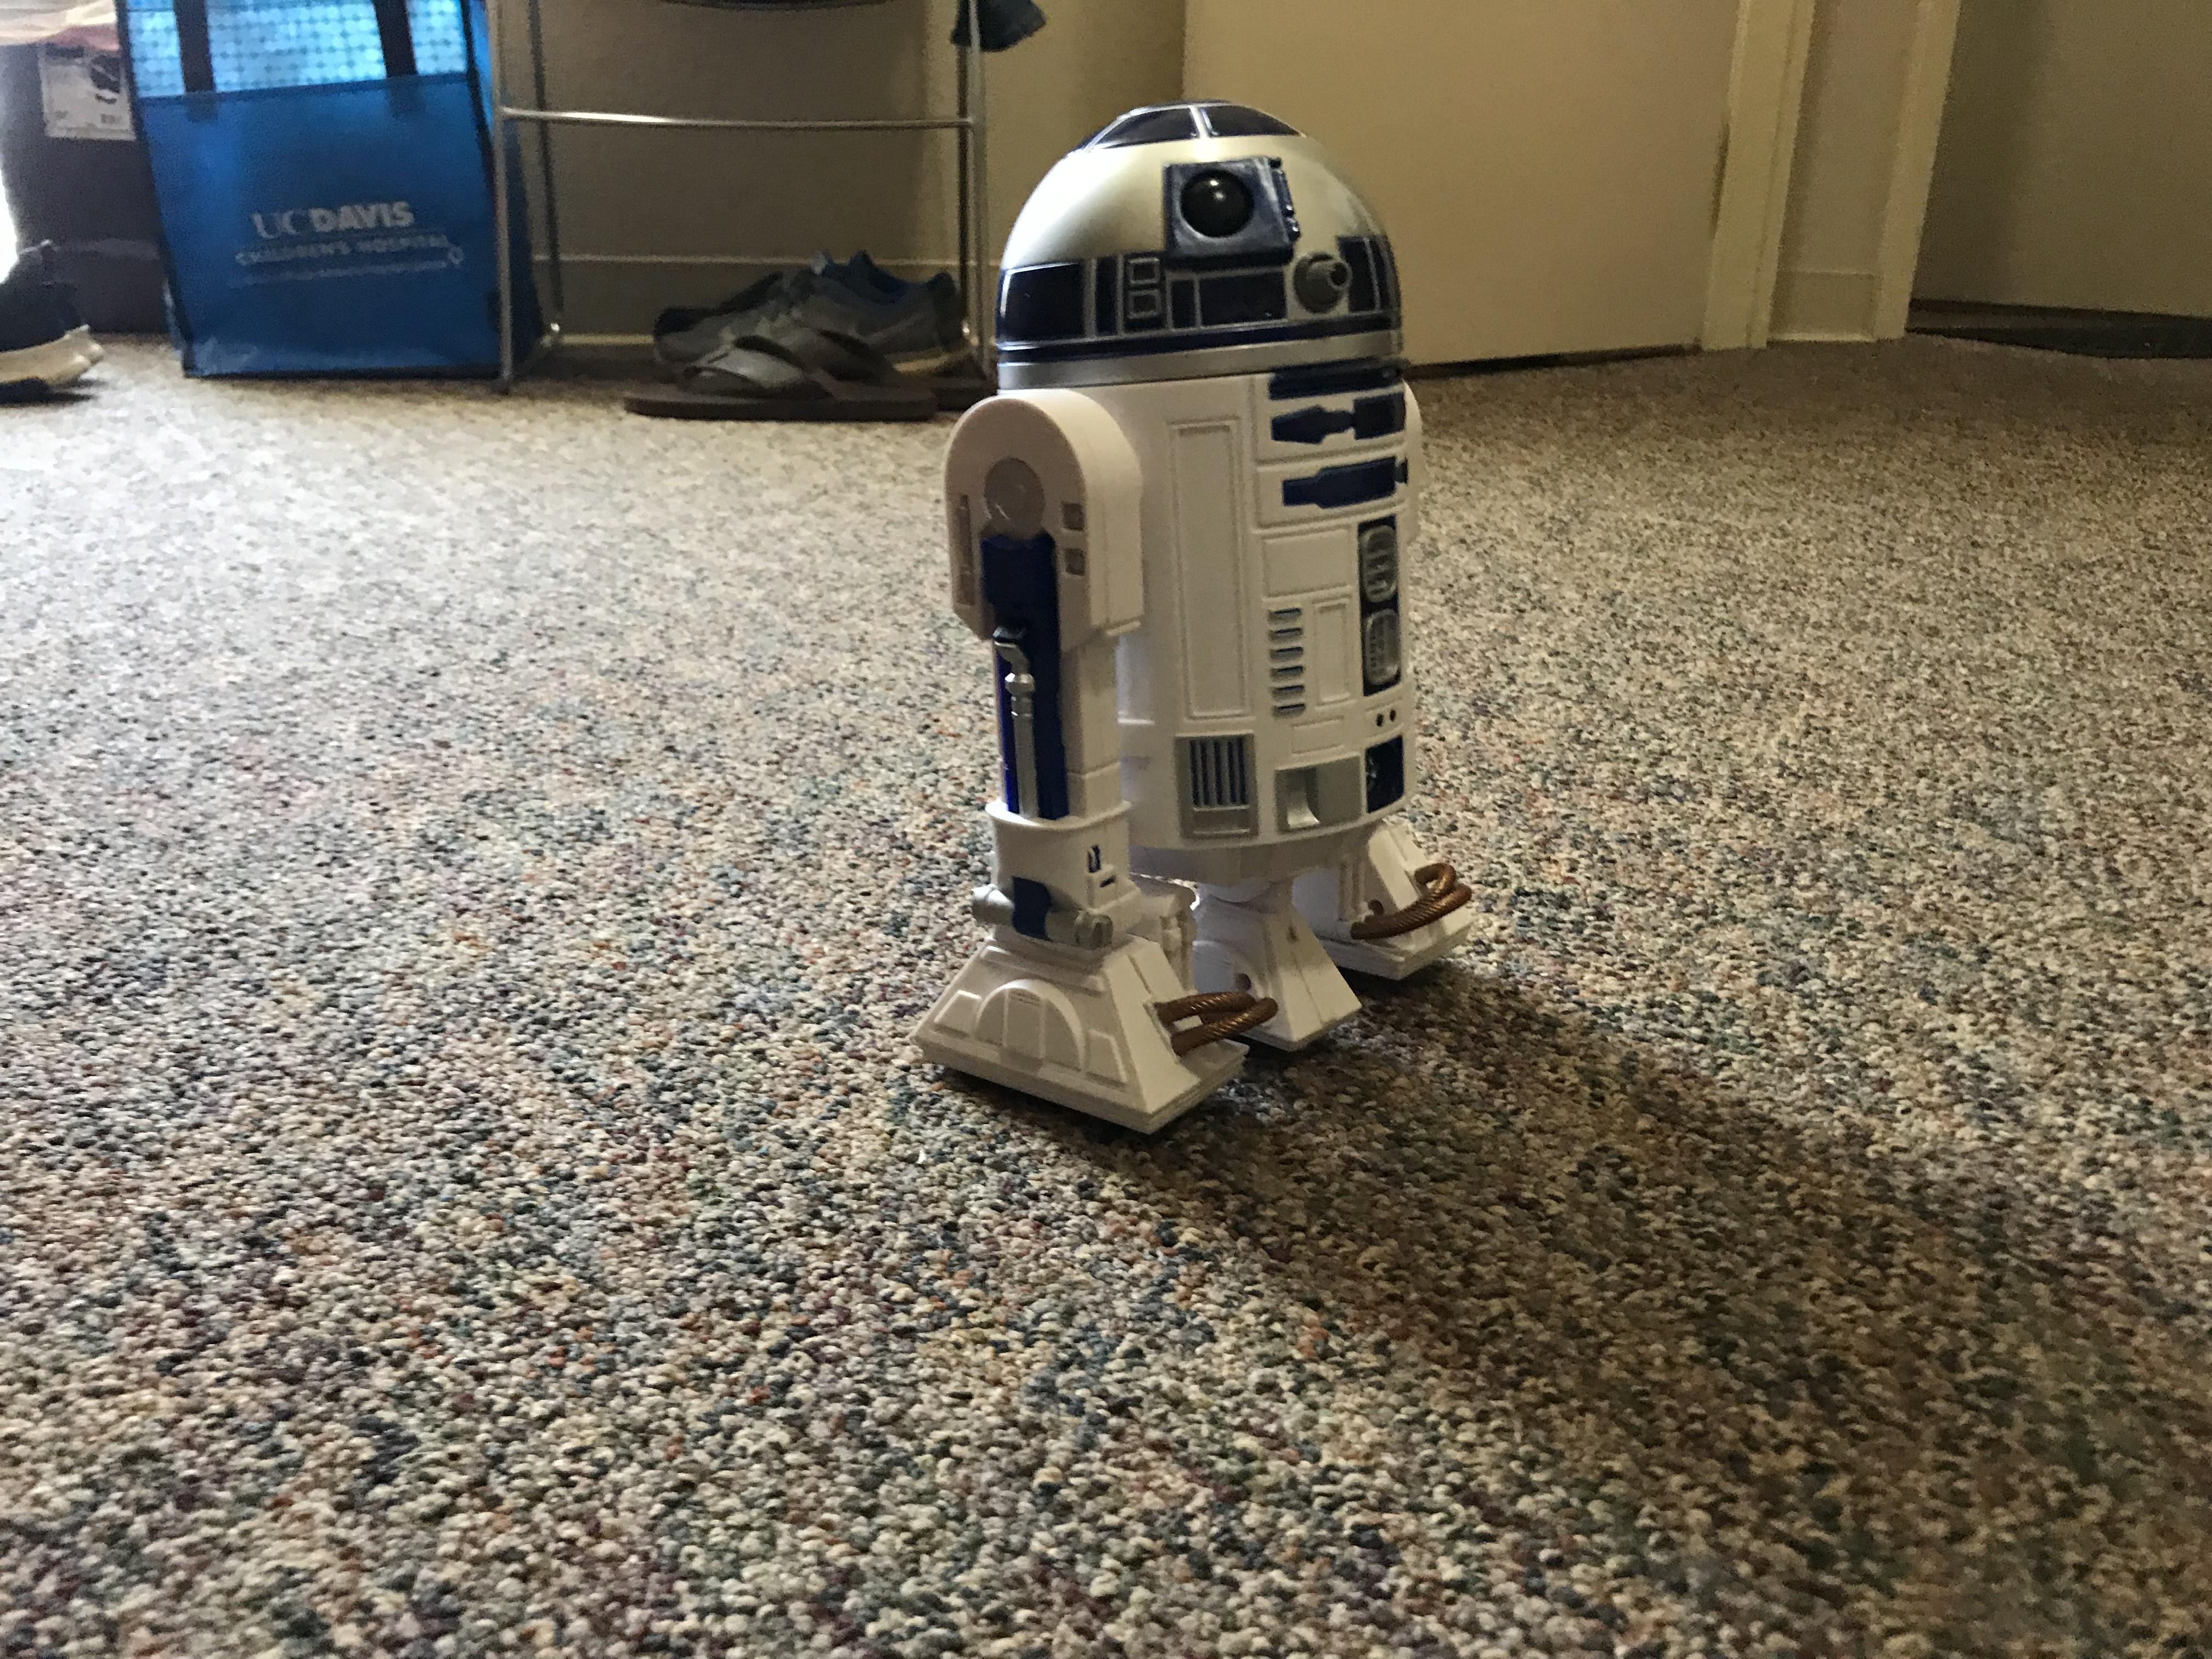r2d2: (902, 99, 1477, 1133)
